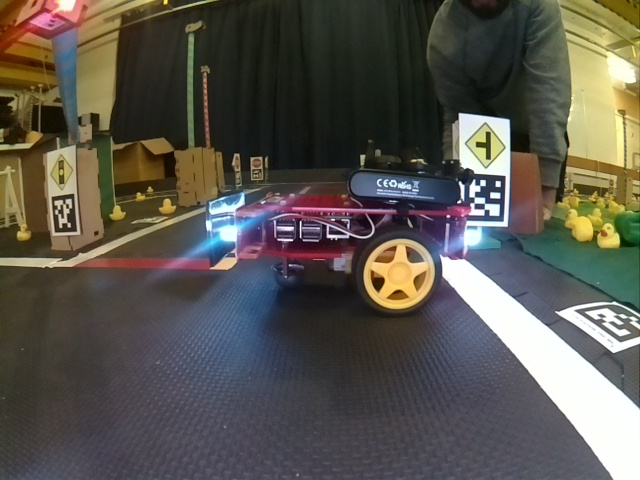Duckie: (597, 224, 620, 248), (575, 216, 591, 242), (565, 209, 579, 229), (160, 199, 175, 215), (17, 224, 30, 241), (111, 208, 125, 221), (135, 195, 145, 202)
Duckiebot: (206, 166, 474, 316)
Intersection sign: (465, 120, 507, 169)
QR code: (560, 301, 639, 352), (465, 174, 506, 223), (51, 196, 79, 234), (234, 171, 243, 185), (252, 169, 262, 179)
Signal sign: (50, 153, 74, 192)
Stop sign: (252, 158, 261, 167)
Traffic light: (15, 2, 88, 37)
